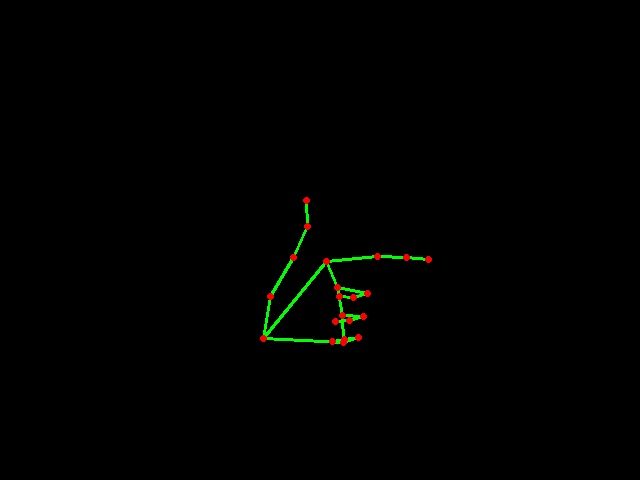left: (252, 190, 441, 352)
